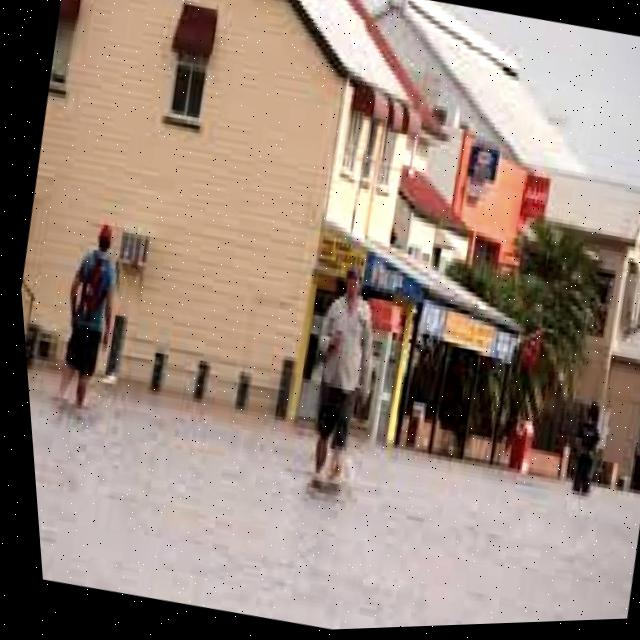civilian: (254, 247, 429, 527), (22, 196, 169, 428)
